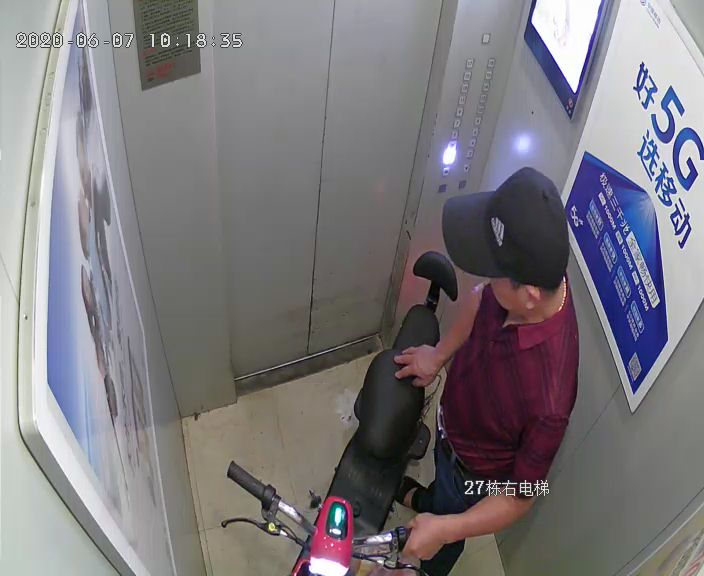Electric-bicycle: (293, 258, 456, 576)
